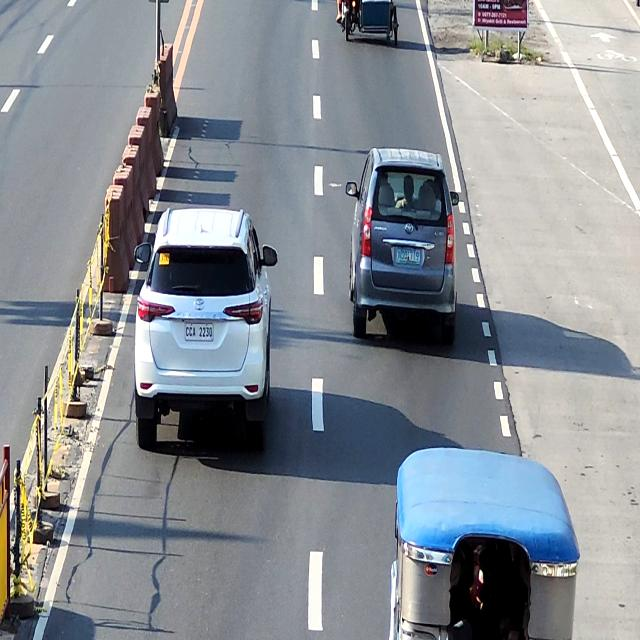Car: (133, 208, 277, 455), (346, 148, 460, 354)
Jeep: (390, 444, 580, 640)
License-Plate: (184, 323, 213, 342), (396, 248, 421, 264)
Tricycle: (340, 0, 398, 41)
